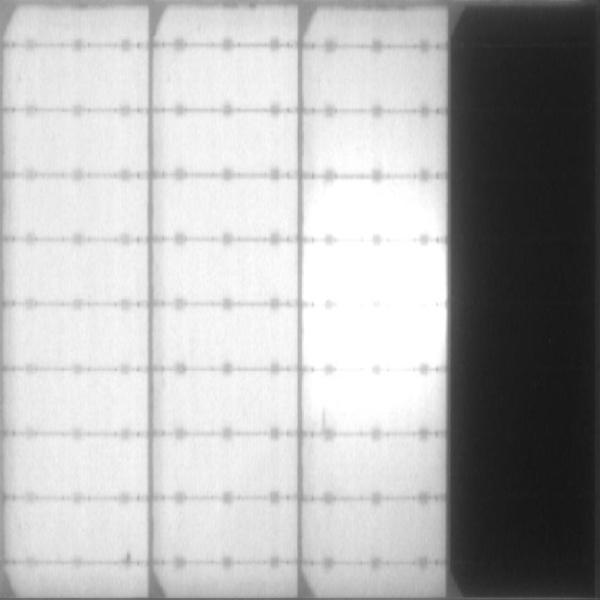hot_spot: (309, 244, 448, 297), (311, 311, 443, 364), (318, 376, 433, 421), (314, 191, 441, 230)
no_electricity: (451, 11, 600, 597)
